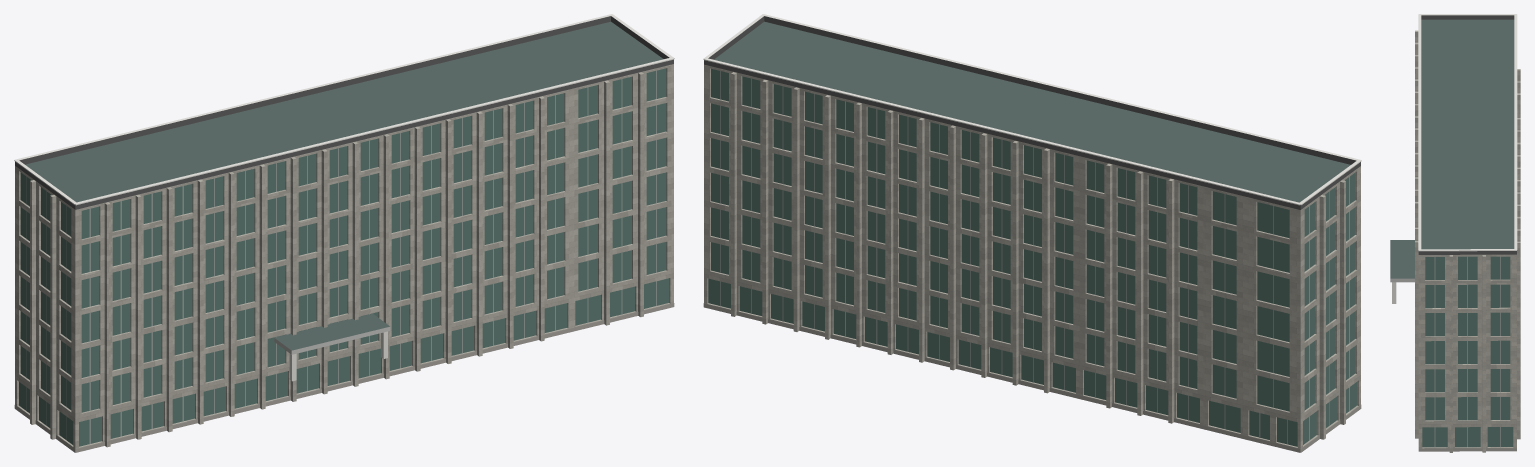
3 renders of one model, left to right at view 1: azimuth 30°, elevation 25°; view 2: azimuth 150°, elevation 25°; view 3: azimuth 270°, elevation 25°, orthographic. The views are drawn at different scales.
Visible parts, largest first — view 1: studentUnion__wall, studentUnion__glass, studentUnion__roof, studentUnion__parapet, studentUnion__frame, studentUnion__trim, studentUnion__base; view 2: studentUnion__wall, studentUnion__glass, studentUnion__roof, studentUnion__parapet, studentUnion__frame, studentUnion__trim, studentUnion__base; view 3: studentUnion__roof, studentUnion__wall, studentUnion__glass, studentUnion__trim, studentUnion__parapet, studentUnion__frame, studentUnion__base.
Boxes of the visible parts, <box> form: studentUnion__wall: <box>15,64,673,452</box>; studentUnion__glass: <box>19,68,669,446</box>; studentUnion__roof: <box>25,21,663,350</box>; studentUnion__parapet: <box>15,16,673,209</box>; studentUnion__frame: <box>26,70,656,444</box>; studentUnion__trim: <box>14,14,674,205</box>; studentUnion__base: <box>14,303,674,452</box>; studentUnion__wall: <box>704,64,1360,452</box>; studentUnion__glass: <box>708,68,1356,446</box>; studentUnion__roof: <box>714,21,1350,202</box>; studentUnion__parapet: <box>704,16,1360,209</box>; studentUnion__frame: <box>720,71,1349,444</box>; studentUnion__trim: <box>703,14,1361,205</box>; studentUnion__base: <box>703,303,1361,452</box>; studentUnion__roof: <box>1390,19,1514,278</box>; studentUnion__wall: <box>1415,30,1520,452</box>; studentUnion__glass: <box>1422,256,1513,447</box>; studentUnion__trim: <box>1418,14,1517,251</box>; studentUnion__parapet: <box>1418,15,1516,254</box>; studentUnion__frame: <box>1434,256,1500,447</box>; studentUnion__base: <box>1418,448,1516,451</box>.
Bounding box in the file's own units: 67.63 × 26.5 × 15.56.
Materials: 10 (1 with a texture image).
